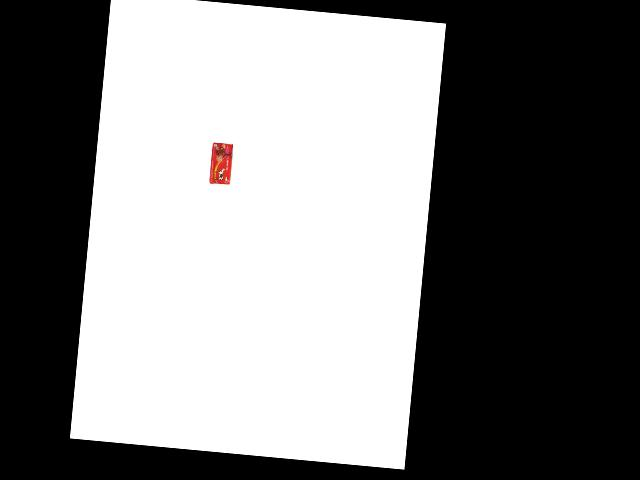chocolate: (206, 141, 233, 187)
